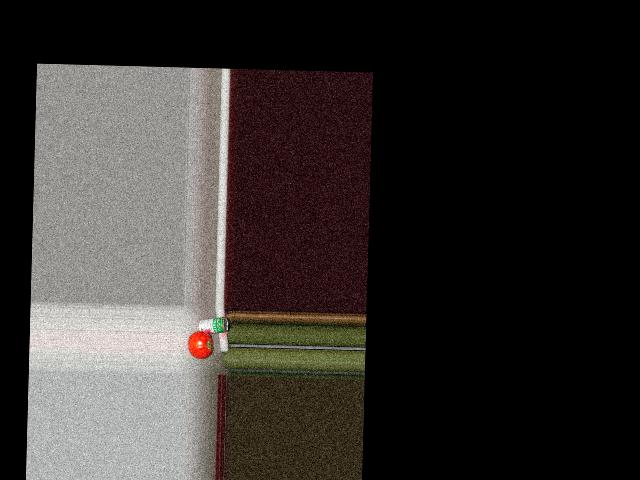tomato: (187, 331, 212, 359)
